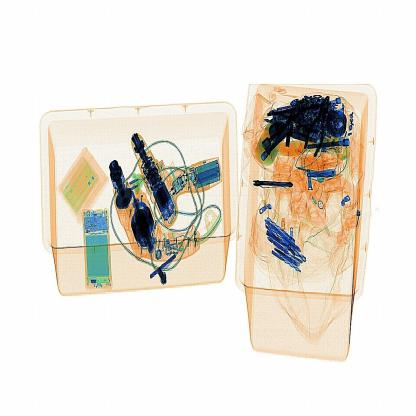knife: (256, 179, 298, 195)
